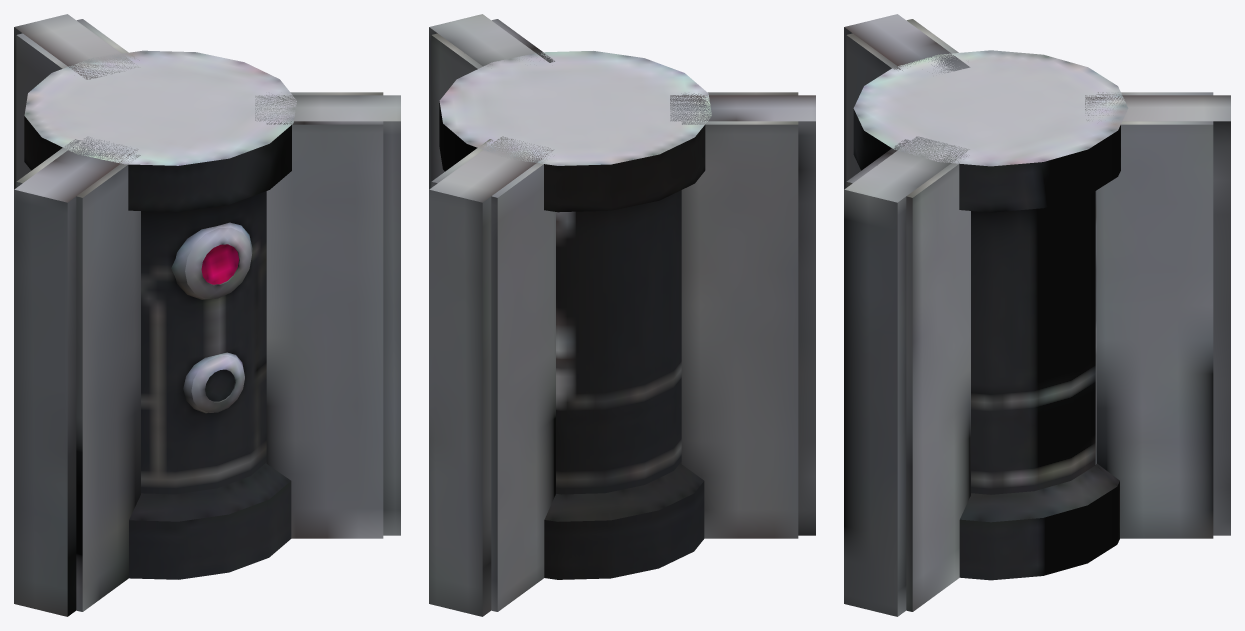
File: revan_switch.obj
The picture shows the model from 3 angles, left to right: view 1: azimuth 30°, elevation 25°; view 2: azimuth 150°, elevation 25°; view 3: azimuth 270°, elevation 25°; orthographic projection.
Parts seen in each view (by area): view 1: switch; view 2: switch; view 3: switch.
Part boxes in pixels (x1=…): switch: x1=14, y1=14, x2=400, y2=616; switch: x1=429, y1=14, x2=815, y2=616; switch: x1=844, y1=14, x2=1230, y2=616.
Size of the model in its own units: 0.1116 by 0.1143 by 0.0967.
